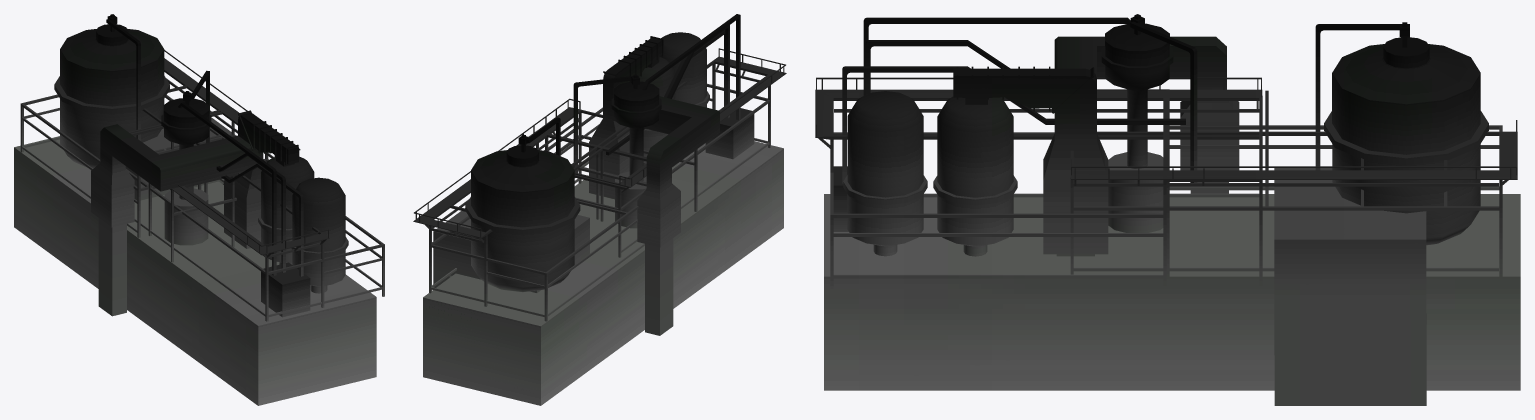
3 views of the same model, side by side, from view 1: azimuth 30°, elevation 25°; view 2: azimuth 150°, elevation 25°; view 3: azimuth 270°, elevation 25° (orthographic). The views are drawn at different scales.
Parts seen in each view (by area): view 1: body0_model0_lod0_mesh0; view 2: body0_model0_lod0_mesh0; view 3: body0_model0_lod0_mesh0.
Part boxes in pixels (x1,y1,x2,y2): body0_model0_lod0_mesh0: (14,14,384,405); body0_model0_lod0_mesh0: (413,14,786,405); body0_model0_lod0_mesh0: (815,14,1520,405).
Size of the model in its own units: 41.04 by 55.06 by 108.
1 material, 1 textured.
